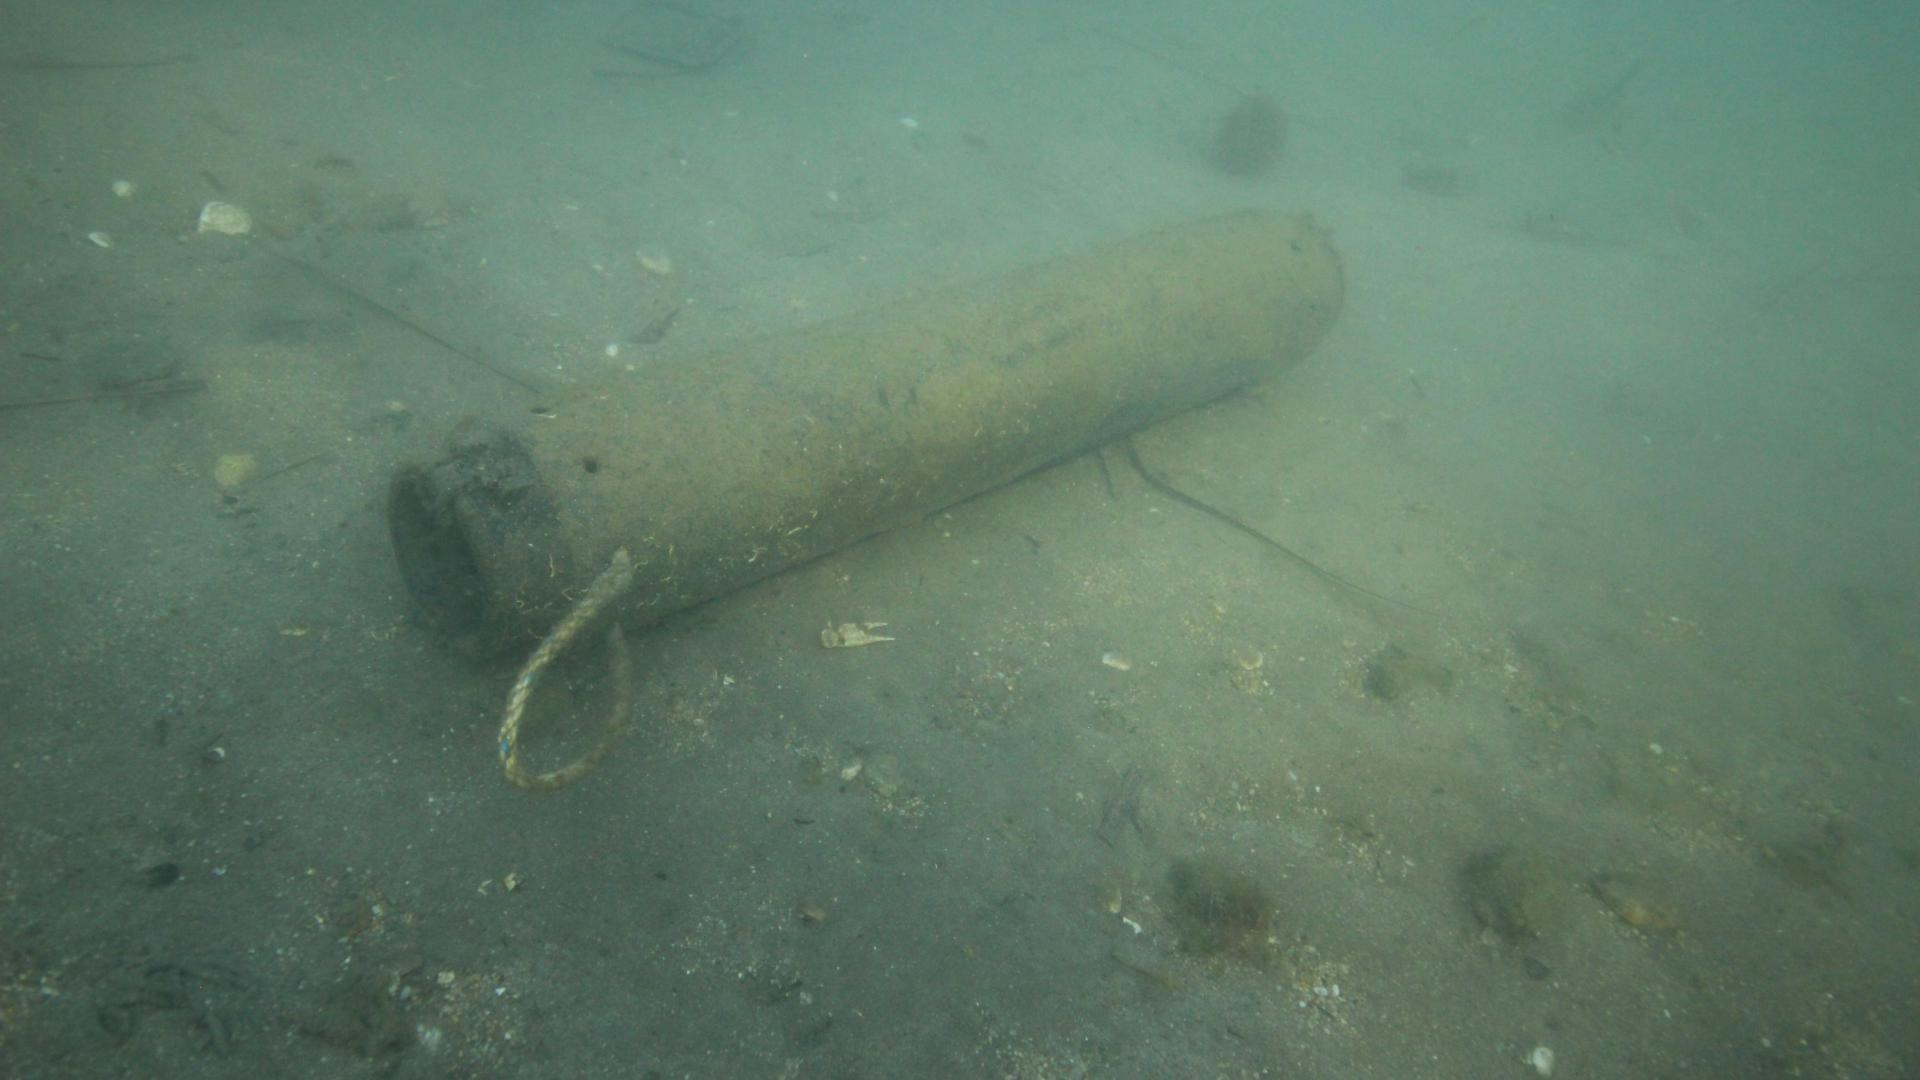eel fish trap: (386, 204, 1345, 659)
rope: (495, 558, 632, 793)
